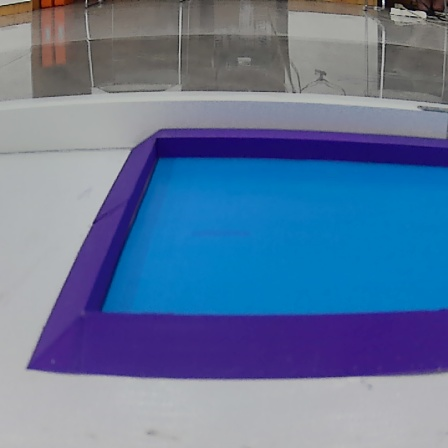blue_aim: (27, 127, 448, 388)
